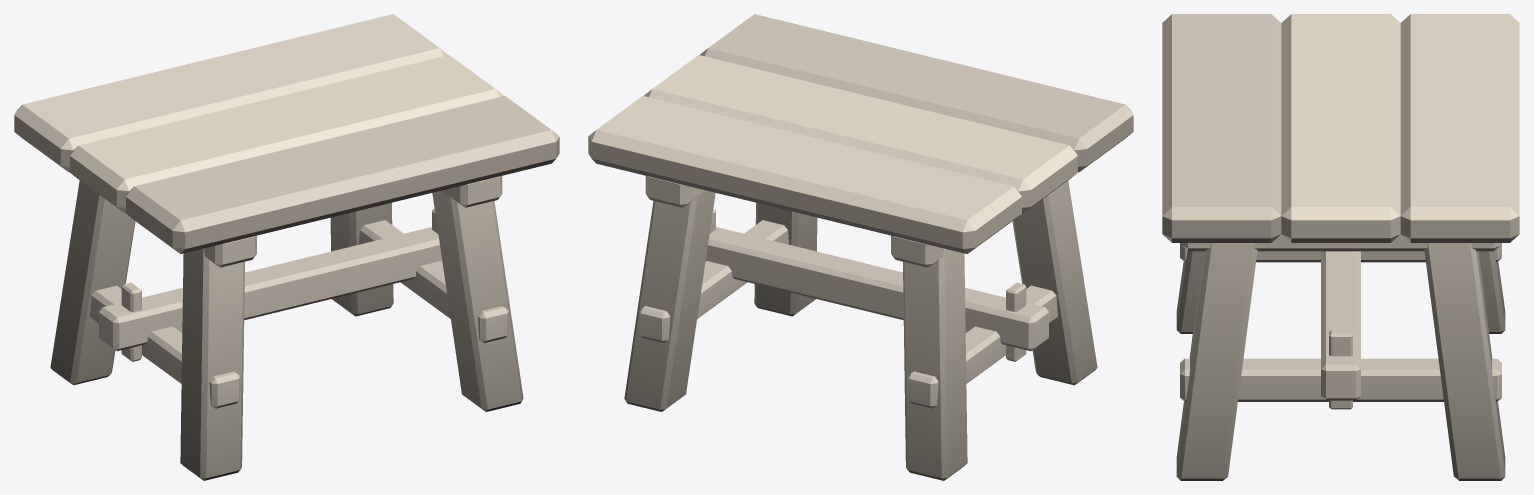
File: SM_VKI_Prop_Table_Trestle_150.fbx
3 views of the same model, side by side, from view 1: azimuth 30°, elevation 25°; view 2: azimuth 150°, elevation 25°; view 3: azimuth 270°, elevation 25° (orthographic). The views are drawn at different scales.
Parts seen in each view (by area): view 1: SM_VKI_Prop_Table_Trestle_150.001; view 2: SM_VKI_Prop_Table_Trestle_150.001; view 3: SM_VKI_Prop_Table_Trestle_150.001.
Boxes of the visible parts, left/top/right/bottom form: SM_VKI_Prop_Table_Trestle_150.001: left=14, top=14, right=559, bottom=480; SM_VKI_Prop_Table_Trestle_150.001: left=588, top=14, right=1133, bottom=480; SM_VKI_Prop_Table_Trestle_150.001: left=1162, top=14, right=1519, bottom=480.
Size of the model in its own units: 1.2 by 0.8 by 0.9.
